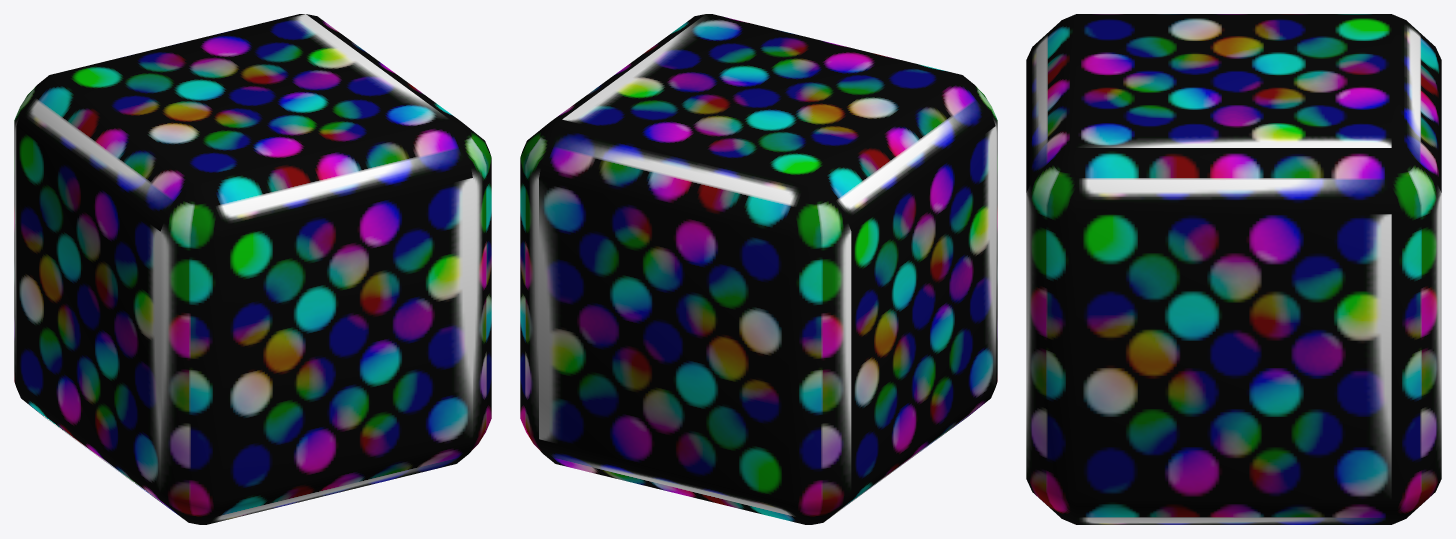
Rendered from ITEM_BOX.OBJ.
3 renders of one model, left to right at view 1: azimuth 30°, elevation 25°; view 2: azimuth 150°, elevation 25°; view 3: azimuth 270°, elevation 25°, orthographic. The views are drawn at different scales.
Visible parts, largest first — view 1: polygon1; view 2: polygon1; view 3: polygon1.
Boxes of the visible parts, x1,y1,x2,y2 form: polygon1: (14,14,491,524); polygon1: (520,14,997,524); polygon1: (1026,14,1441,524).
Size of the model in its own units: 89.3 by 89.3 by 89.3.
